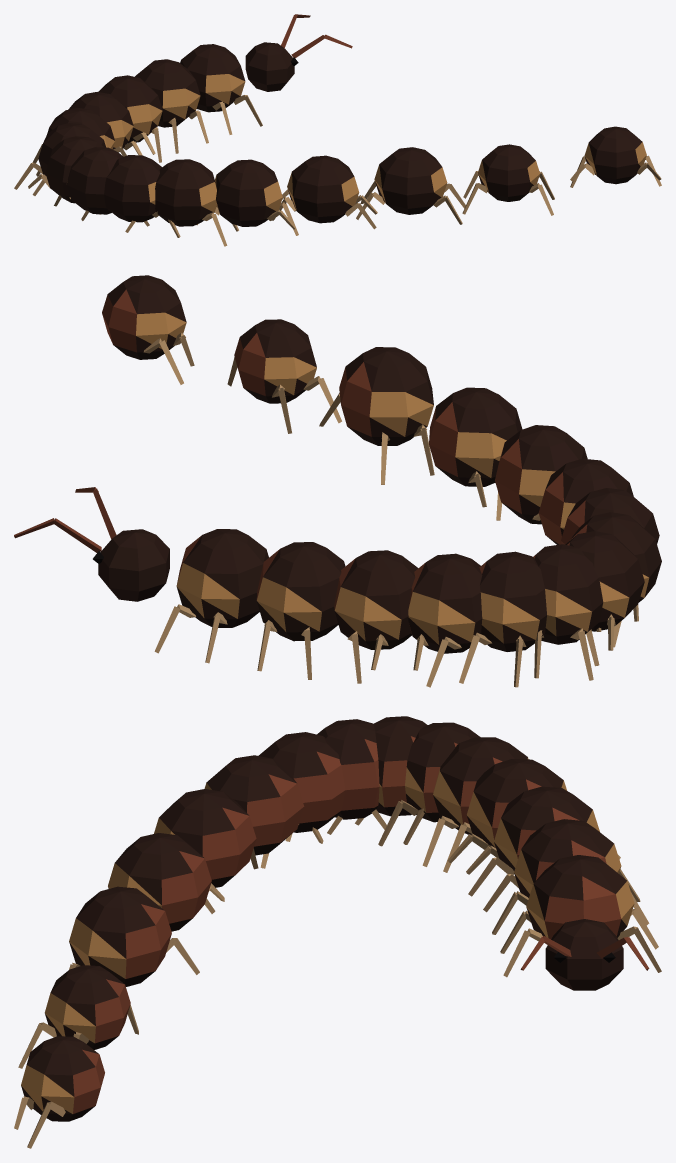
Rendered from creatures-millipede.glb.
3 renders of one model, top to bottom at view 1: azimuth 30°, elevation 25°; view 2: azimuth 150°, elevation 25°; view 3: azimuth 270°, elevation 25°, orthographic. The views are drawn at different scales.
Size of the model in its own units: 21.53 by 2.83 by 16.7.
